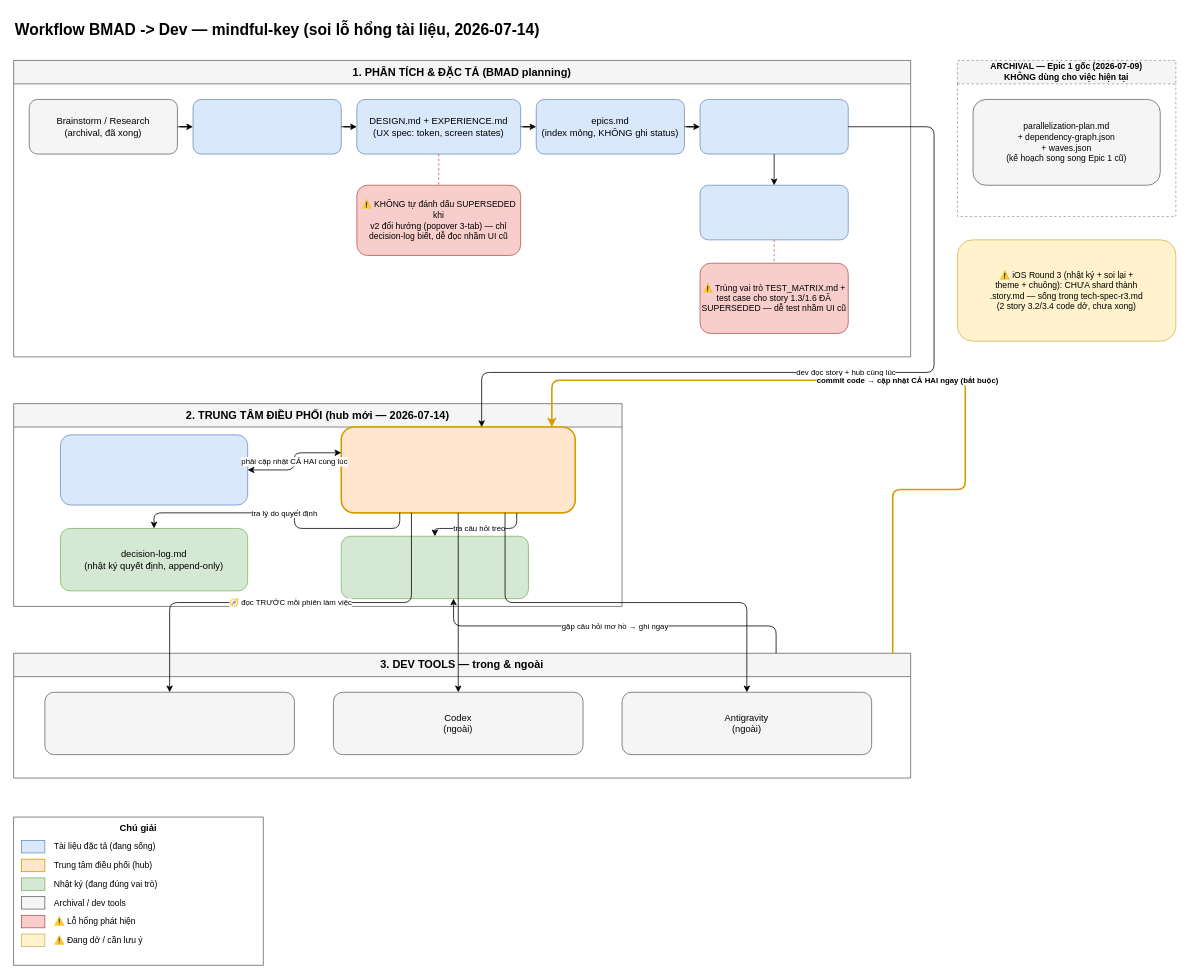
This 1190x979 diagram has some shape labels left out. The centre of each missing label's shape, as x and y in pixels:
Claude Code (trong): the point at 169,723
FRICTION-LOG.md (câu hỏi treo — DỪNG-HỎI): the point at 434,567
PRD.md + tech-spec*.md (định vị + phạm vi kỹ thuật): the point at 266,126
stories/*.story.md (context object đầy đủ cho dev): the point at 773,126
TEST-PLAN-macos-control-panel.md (checklist nghiệm thu tay): the point at 773,212
TEST_MATRIX.md (bằng chứng: build-verified hay đã có người gõ/nhìn thật?): the point at 154,469
🧭 sprint-status.yaml (ĐỌC ĐÂY TRƯỚC — nguồn sự thật DUY NHẤT cho status): the point at 458,469
